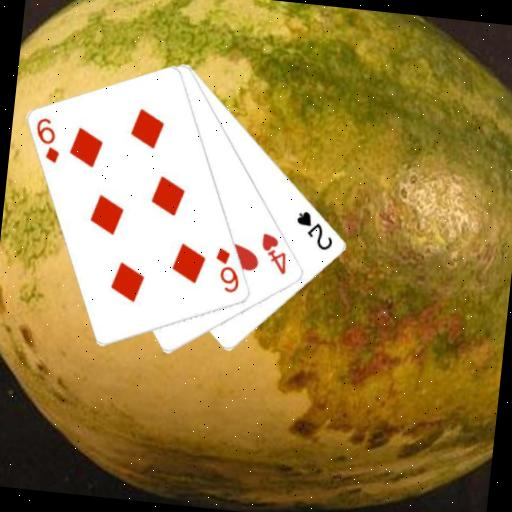2S: (290, 207, 338, 253)
4H: (256, 230, 293, 278)
6D: (210, 244, 245, 296), (30, 114, 65, 166)
